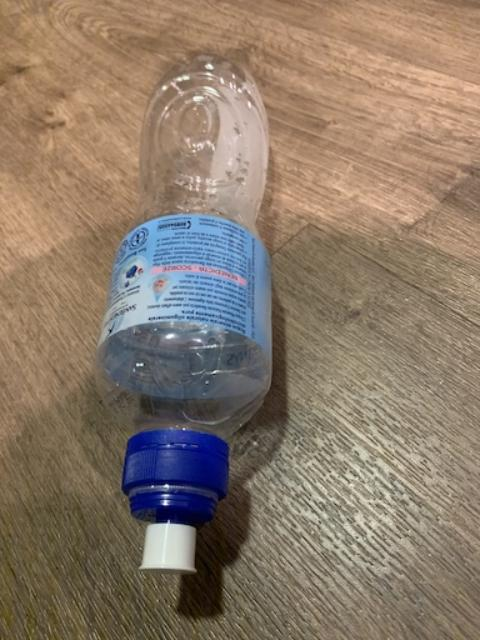plastic: (95, 59, 271, 571)
